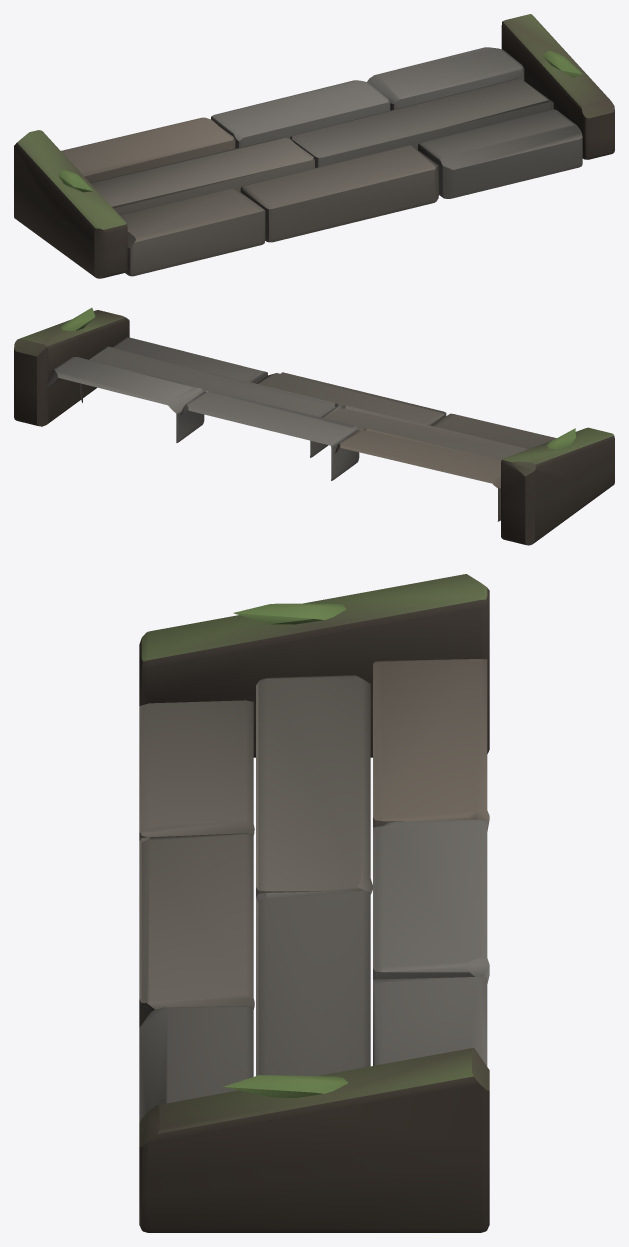
File: ruins-steps.glb
The picture shows the model from 3 angles, top to bottom: view 1: azimuth 30°, elevation 25°; view 2: azimuth 150°, elevation 25°; view 3: azimuth 270°, elevation 25°; orthographic projection. The views are drawn at different scales.
Parts seen in each view (by area): view 1: 0_ruins_steps; view 2: 0_ruins_steps; view 3: 0_ruins_steps.
Boxes of the visible parts, <box> form: 0_ruins_steps: <box>14,14,614,278</box>; 0_ruins_steps: <box>14,307,614,545</box>; 0_ruins_steps: <box>139,574,489,1232</box>.
Size of the model in its own units: 4.1 by 0.6541 by 1.2.
